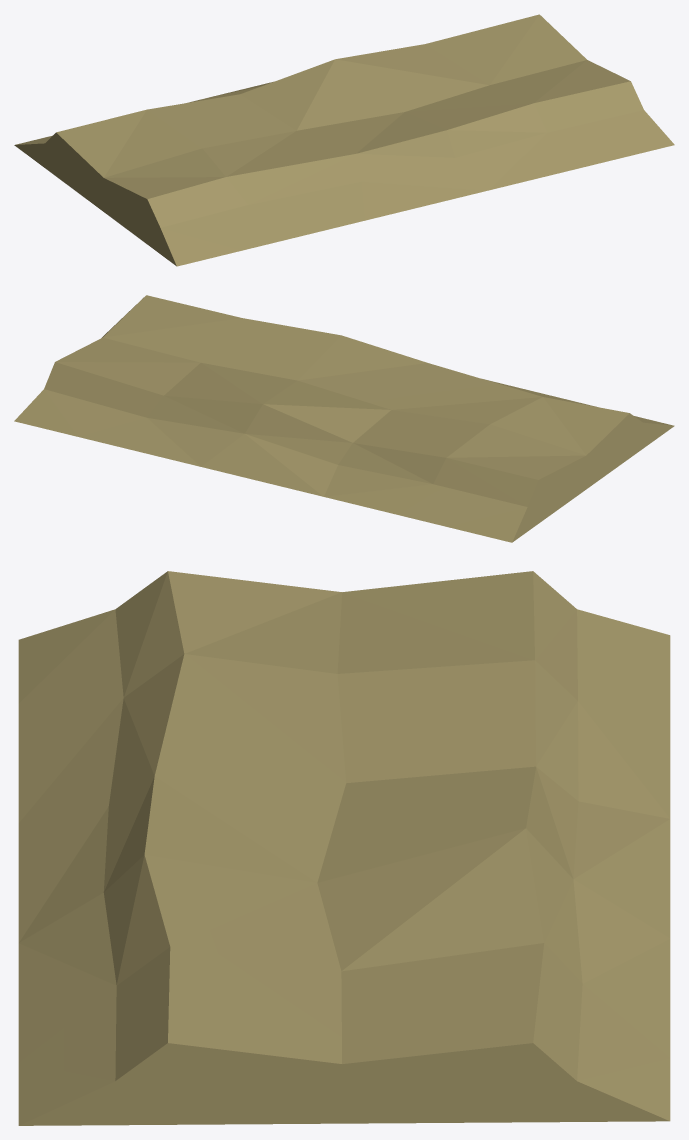
File: DirtRoad.fbx
3 renders of one model, top to bottom at view 1: azimuth 30°, elevation 25°; view 2: azimuth 150°, elevation 25°; view 3: azimuth 270°, elevation 25°, orthographic. The views are drawn at different scales.
Parts seen in each view (by area): view 1: DIrtRoad; view 2: DIrtRoad; view 3: DIrtRoad.
Part boxes in pixels (x1,y1,x2,y2): DIrtRoad: (14,14,674,266); DIrtRoad: (14,295,674,542); DIrtRoad: (18,571,670,1125).
Bounding box in the file's own units: 412 × 35.55 × 234.
